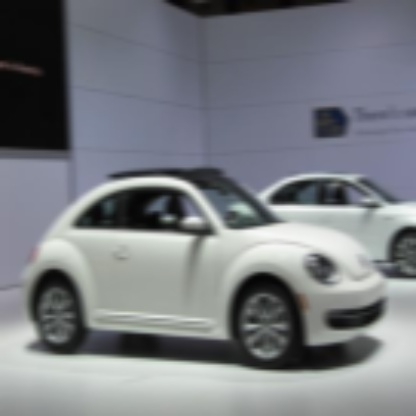Vehicle: (22, 166, 386, 366)
